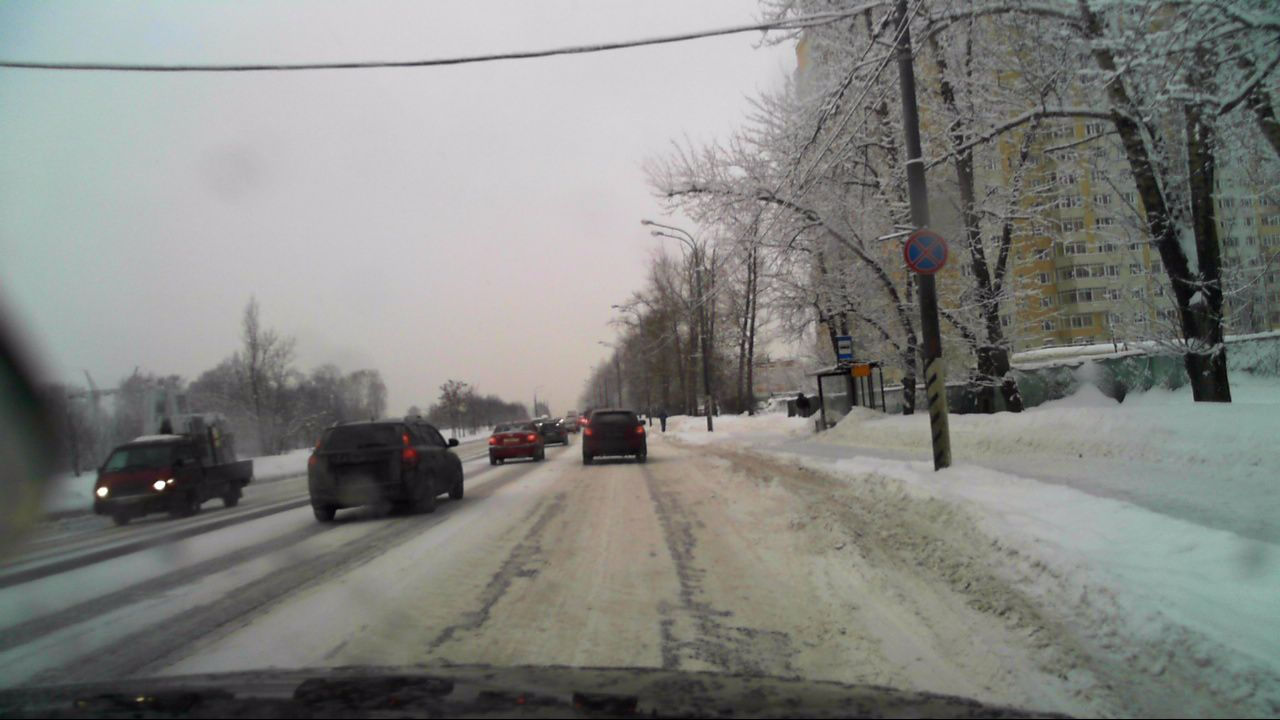No Parking: (904, 230, 949, 274)
